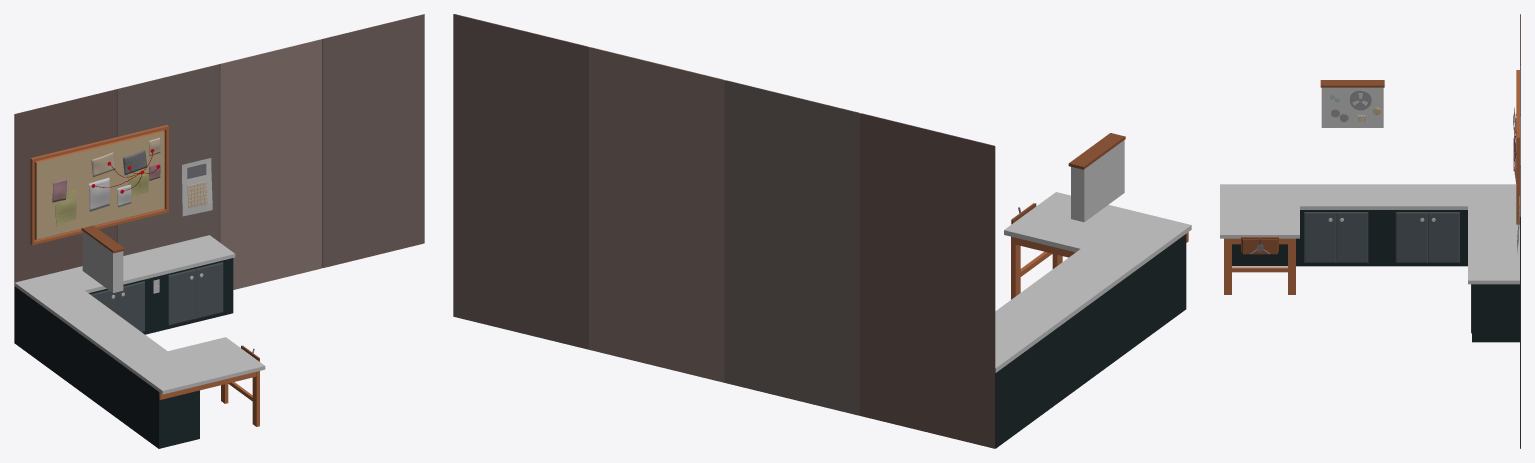
The model's file is Cabinet.fbx.
The picture shows the model from 3 angles, left to right: view 1: azimuth 30°, elevation 25°; view 2: azimuth 150°, elevation 25°; view 3: azimuth 270°, elevation 25°; orthographic projection. The views are drawn at different scales.
Parts seen in each view (by area): view 1: Cube.047, Cube.046, Cabinet.004, Cabinet, Cube.045, Cube.063, Cube.044, Cube.079, Cube.048, Plane.002, Plane.001, Plane.003 (+7 smaller); view 2: Cube.044, Cube.046, Cube.047, Cube.045, Cabinet, Cabinet.004, Cube.079; view 3: Cabinet.004, Cabinet, Cube.079, Plane.006, Plane.007, Plane.008, Plane.005, Cube.063, Cube.040, Cube.002, Cube.003, Cube.004 (+1 smaller).
Boxes of the visible parts, x1,y1,x2,y2 form: Cube.047: (322,14,424,267); Cube.046: (219,39,321,289); Cabinet.004: (14,235,265,394); Cabinet: (14,258,233,448); Cube.045: (117,64,219,255); Cube.063: (30,125,168,245); Cube.044: (14,89,116,342); Cube.079: (81,225,124,292); Cube.048: (182,158,212,216); Plane.002: (168,269,195,325); Plane.001: (196,262,223,318); Plane.003: (117,281,144,332); Cube.044: (860,113,995,448); Cube.046: (589,47,724,382); Cube.047: (453,14,588,349); Cube.045: (724,80,859,415); Cabinet: (995,234,1186,448); Cabinet.004: (995,192,1191,372); Cube.079: (1068,133,1125,222); Cabinet.004: (1220,184,1519,284); Cabinet: (1232,210,1519,342); Cube.079: (1320,80,1384,127); Plane.006: (1395,212,1427,262); Plane.007: (1336,212,1368,262); Plane.008: (1304,212,1336,262); Plane.005: (1428,212,1459,262); Cube.063: (1516,70,1519,224); Cube.040: (1242,239,1277,254); Cube.002: (1288,238,1295,294); Cube.003: (1224,238,1231,294); Cube.004: (1232,267,1287,272).
Bounding box in the file's own units: 600 × 320 × 376.
